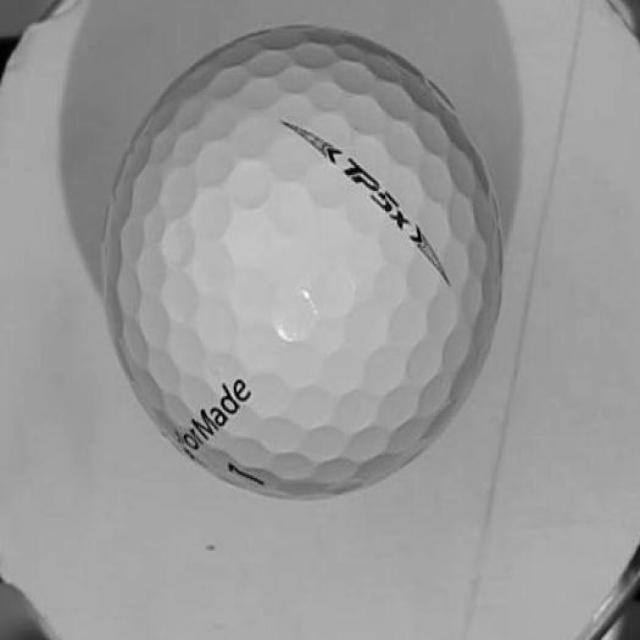golfball: (111, 26, 499, 493), (372, 191, 412, 232)
